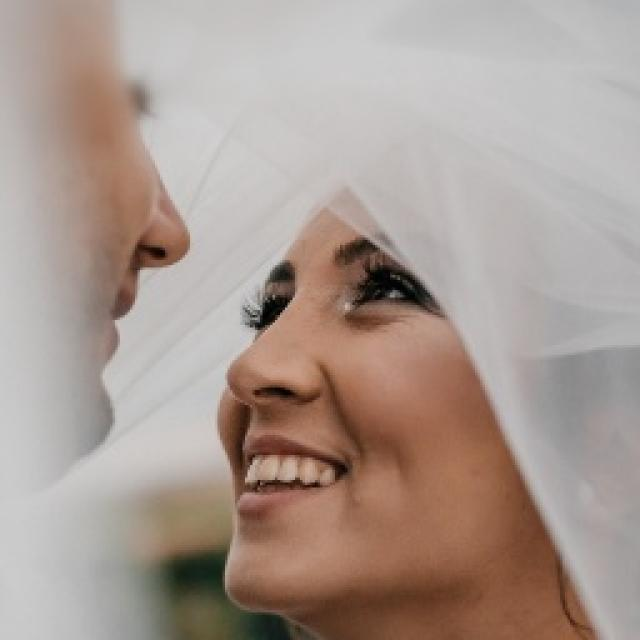no-glasses: (237, 274, 453, 334)
